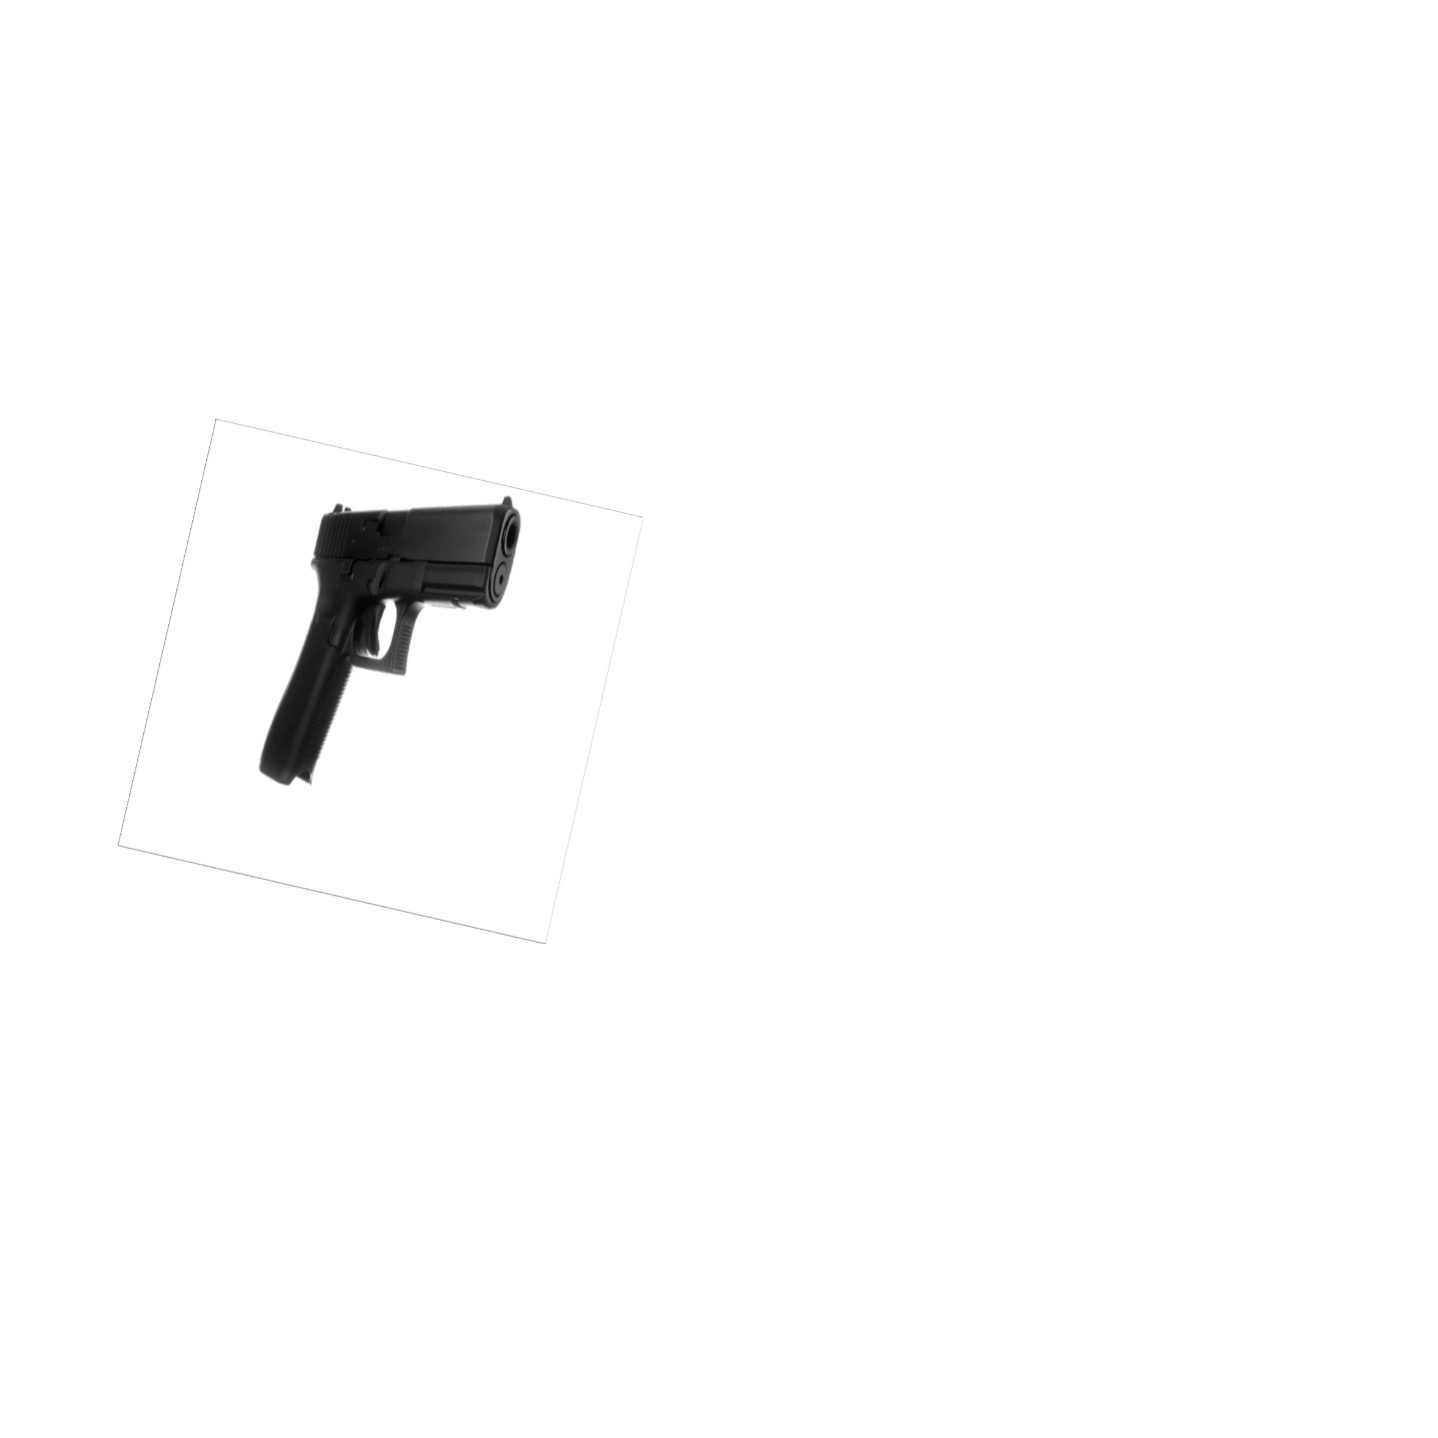gun: (261, 496, 521, 785)
